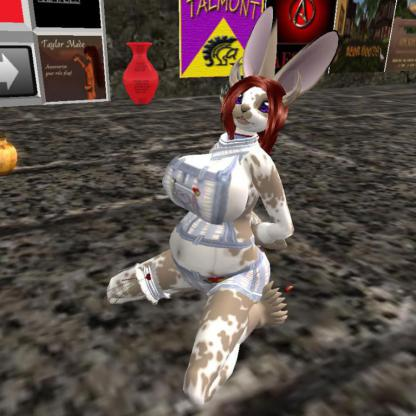vase: (124, 41, 158, 106)
